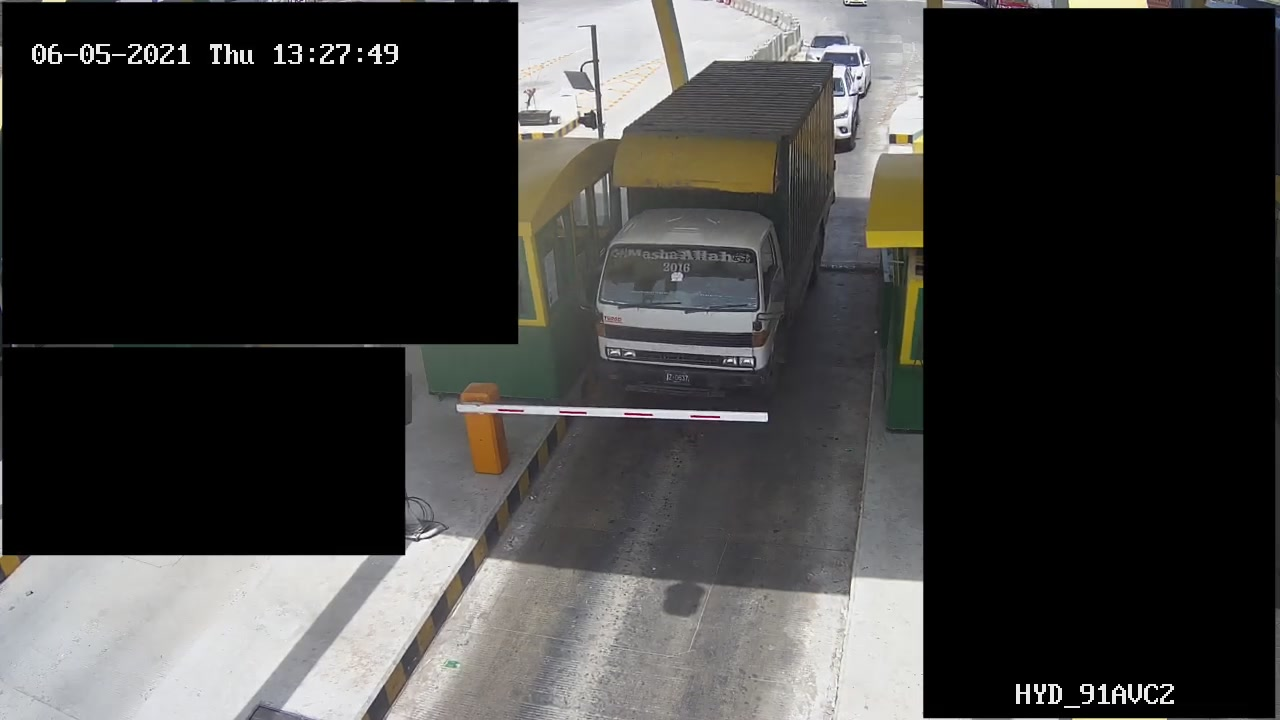F5: (585, 47, 844, 402)
